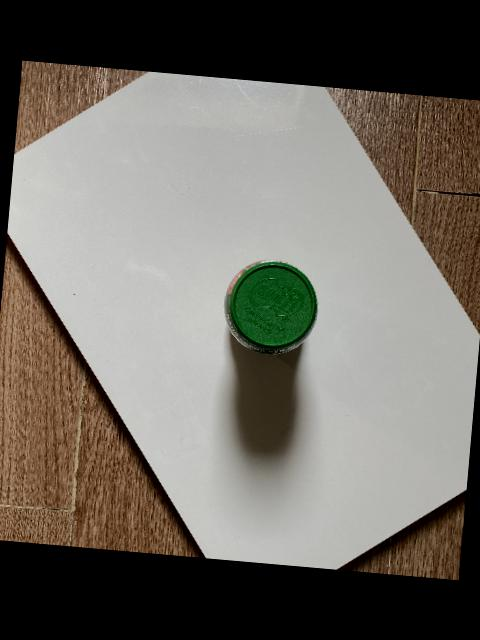milo: (222, 259, 317, 354)
